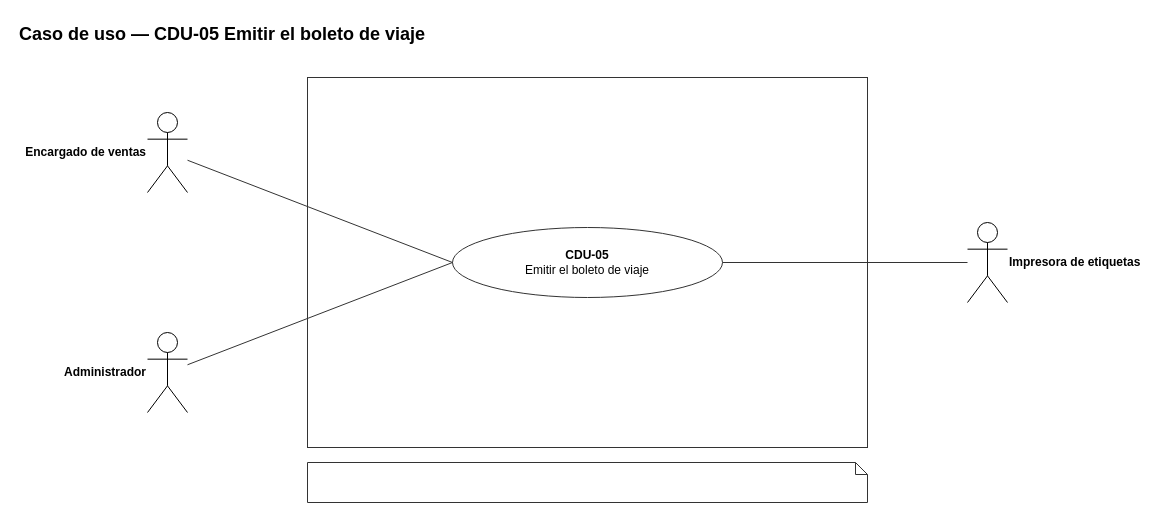
Some shapes in this 1157 by 520 pixel diagram are drawn without their labels. The box of each missing label's shape, as (x1, y1, x2, y2) in pixels:
Módulo de Reservas y Venta de Pasajes: (306, 76, 868, 448)
Requisitos: RF-05, RF-06, RF-24, RI-01 · Pantallas: IU-P03, IU-P05: (306, 462, 868, 502)
